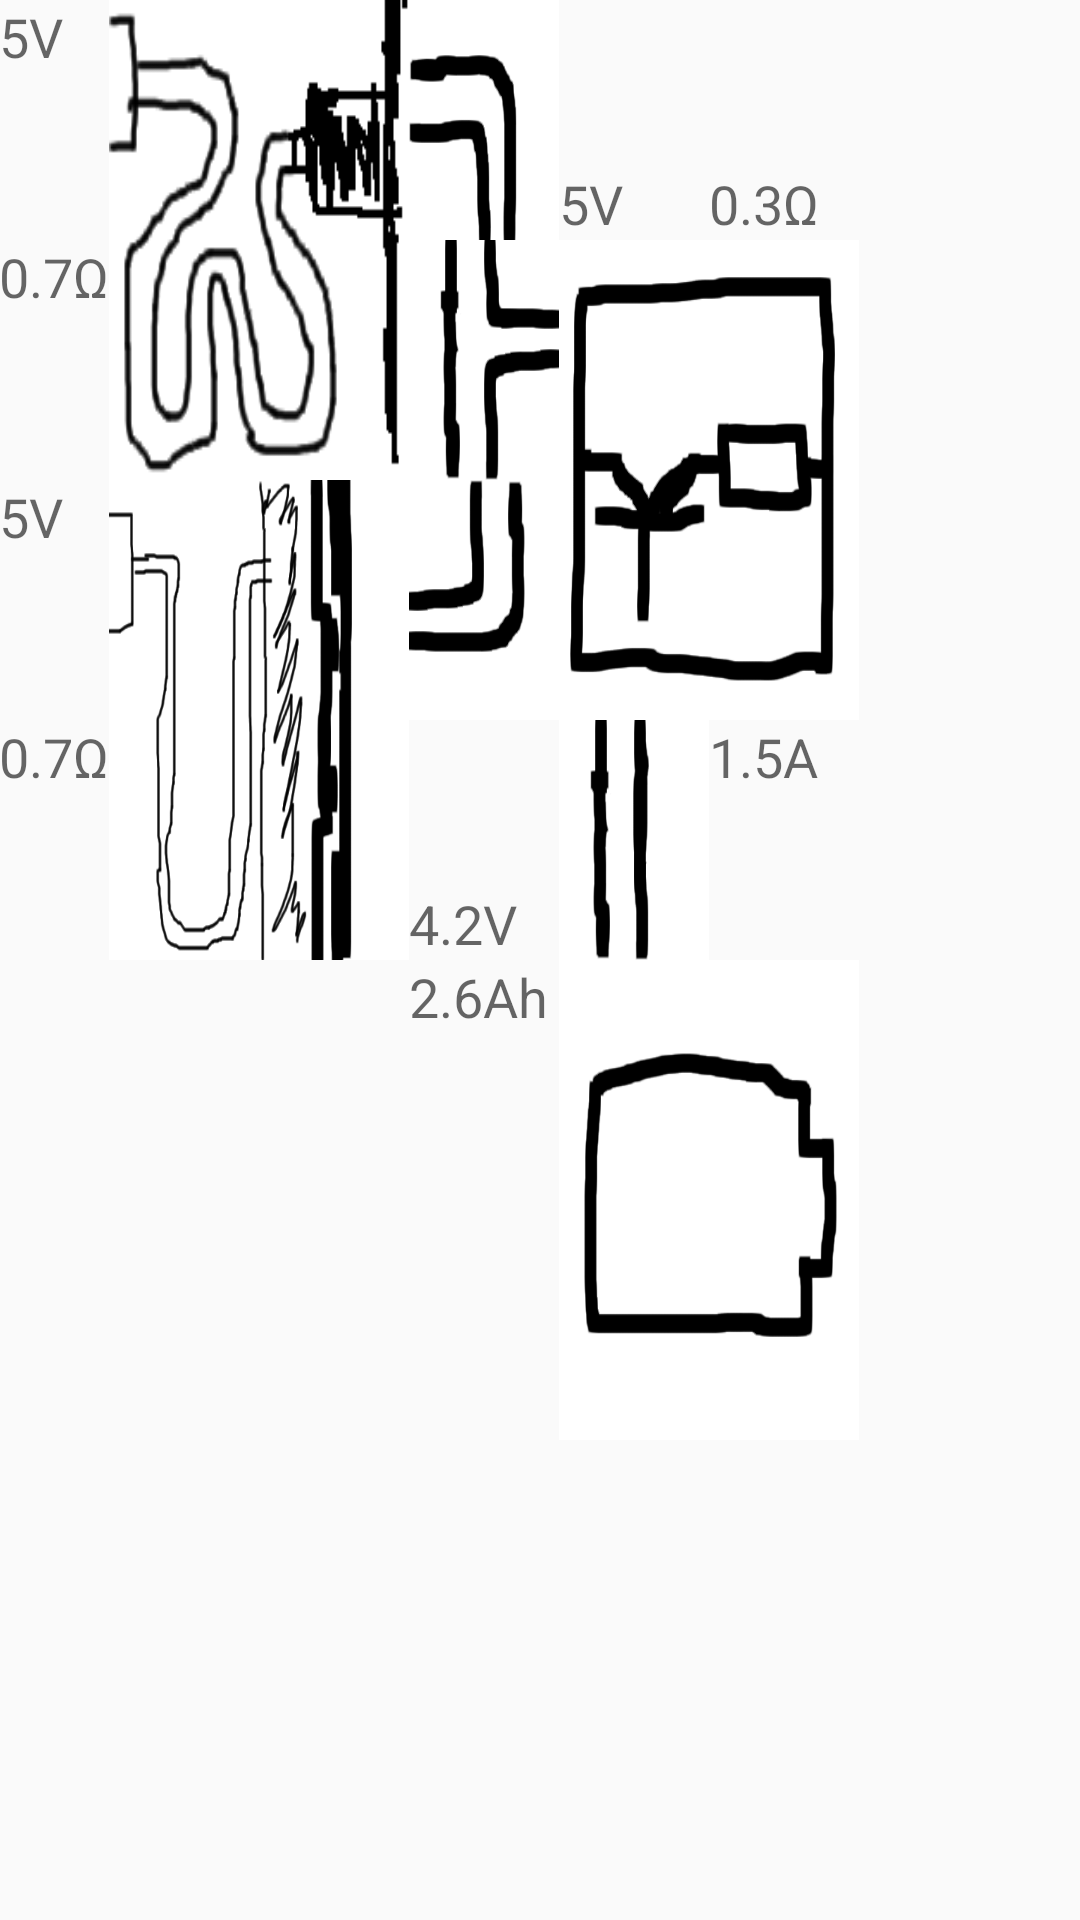

Icons on this 1080px x 1920px Android screen, each with its box as box(x1, y1, x2, y2):
battery: box(584, 1053, 837, 1337)
conduit lb: box(410, 55, 517, 240)
conduit lt: box(409, 480, 525, 652)
conduit rtb: box(440, 240, 559, 480)
conduit tb: box(590, 720, 649, 960)
